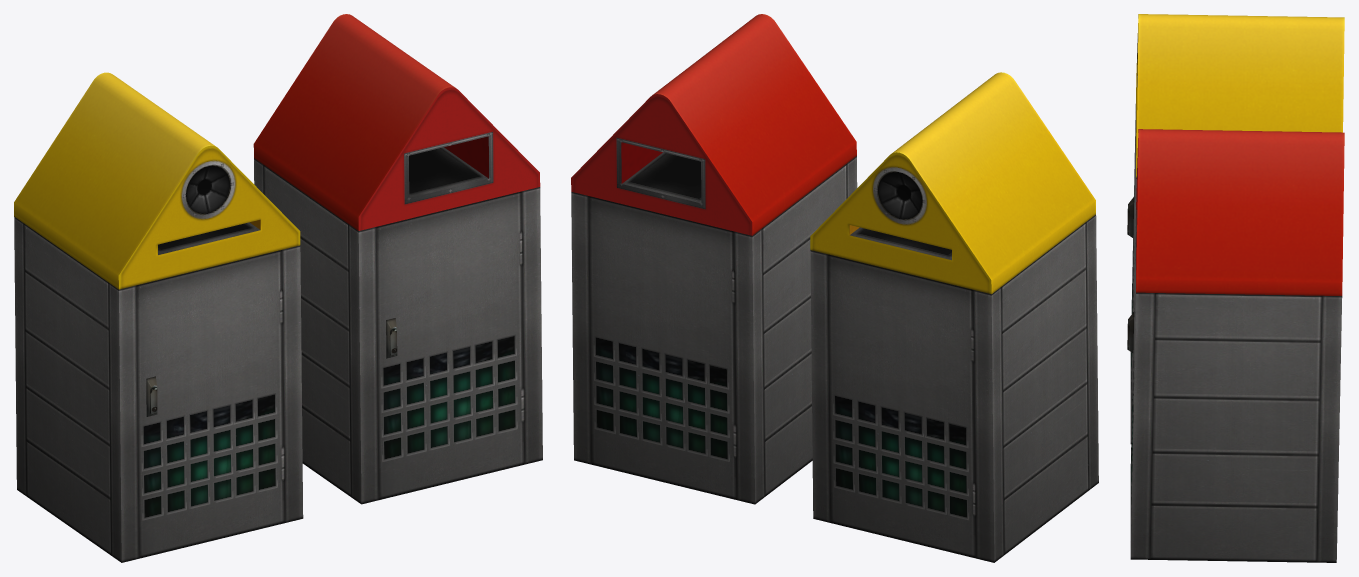
File: Bins.fbx
The picture shows the model from 3 angles, left to right: view 1: azimuth 30°, elevation 25°; view 2: azimuth 150°, elevation 25°; view 3: azimuth 270°, elevation 25°; orthographic projection.
Parts seen in each view (by area): view 1: Bins; view 2: Bins; view 3: Bins.
Boxes of the visible parts, bbox=[...] form: Bins: bbox=[14, 14, 542, 562]; Bins: bbox=[571, 14, 1098, 562]; Bins: bbox=[1127, 14, 1344, 562].
Size of the model in its own units: 1.46 by 0.664 by 1.31.
